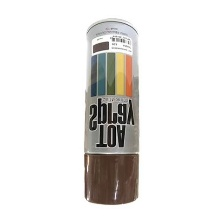aerosol_cans: (75, 12, 145, 212)
